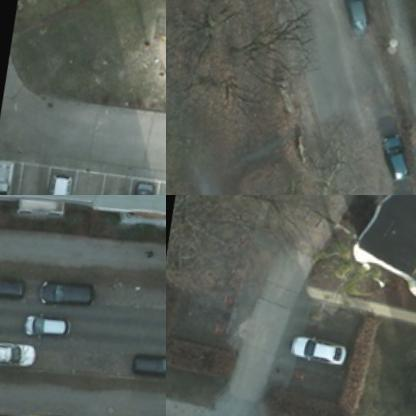car: (324, 0, 375, 50), (363, 138, 408, 194), (282, 336, 344, 374), (30, 278, 86, 317), (118, 353, 165, 394), (15, 314, 65, 348), (0, 337, 31, 378), (0, 271, 22, 313), (33, 172, 70, 194), (0, 157, 19, 194), (121, 184, 155, 194)
